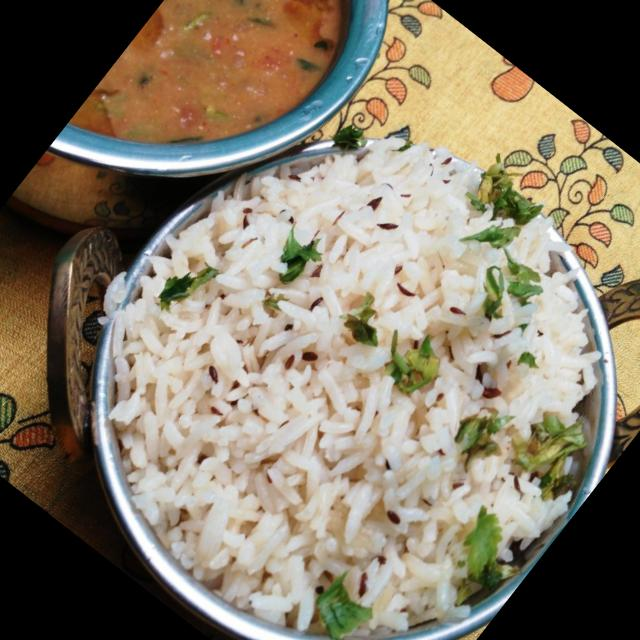rice: (22, 37, 640, 640)
